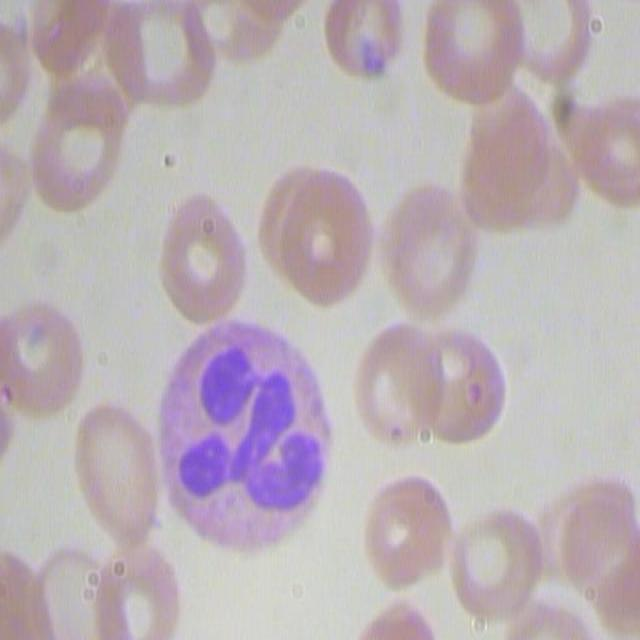RBC: (456, 60, 584, 237), (252, 156, 376, 310), (368, 188, 477, 314), (106, 0, 221, 117), (359, 463, 462, 593), (440, 495, 543, 624), (409, 322, 511, 447), (76, 399, 161, 545), (28, 93, 127, 214), (351, 317, 441, 450), (156, 192, 246, 324), (420, 1, 530, 107), (1, 296, 85, 418), (17, 539, 119, 638), (85, 538, 182, 638), (563, 93, 640, 211), (180, 0, 309, 69), (493, 0, 599, 81), (319, 1, 417, 86)
WBC: (158, 311, 342, 564)
